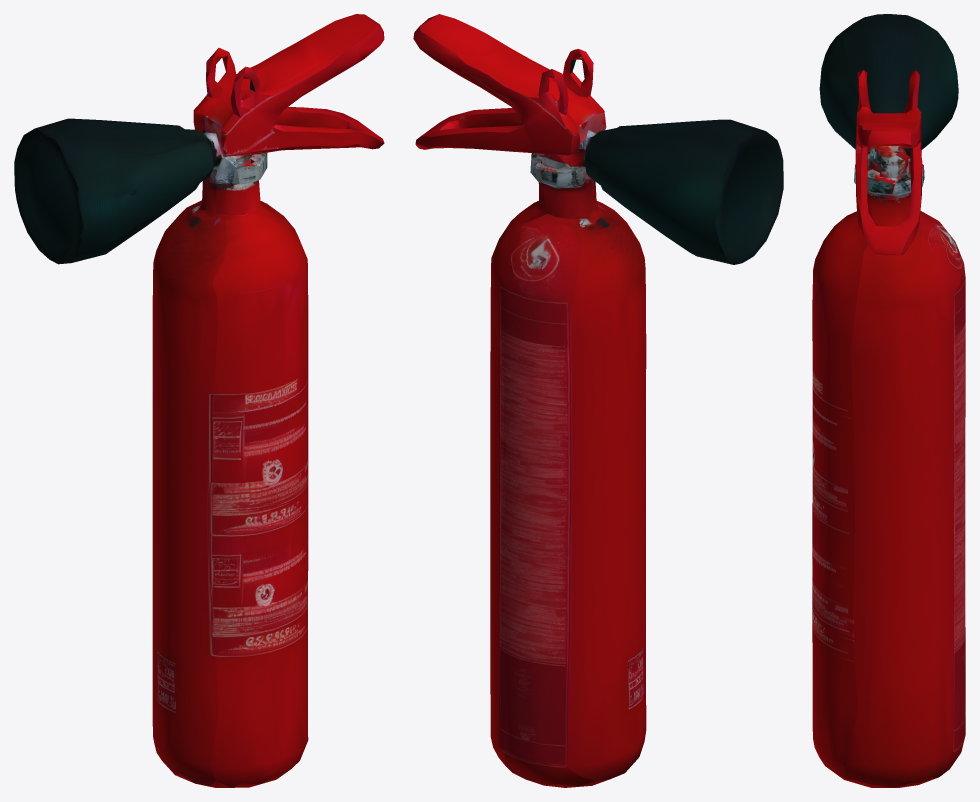
Rendered from extincteur_3D_textured.glb.
The picture shows the model from 3 angles, left to right: view 1: azimuth 30°, elevation 25°; view 2: azimuth 150°, elevation 25°; view 3: azimuth 270°, elevation 25°; orthographic projection.
Parts seen in each view (by area): view 1: temp_mesh.ply; view 2: temp_mesh.ply; view 3: temp_mesh.ply.
Part boxes in pixels (x1,y1,x2,y2): temp_mesh.ply: (14, 14, 384, 787); temp_mesh.ply: (413, 14, 783, 787); temp_mesh.ply: (812, 14, 965, 787).
Bounding box in the file's own units: 0.7066 × 1.46 × 0.2878.
1 material, 1 textured.
